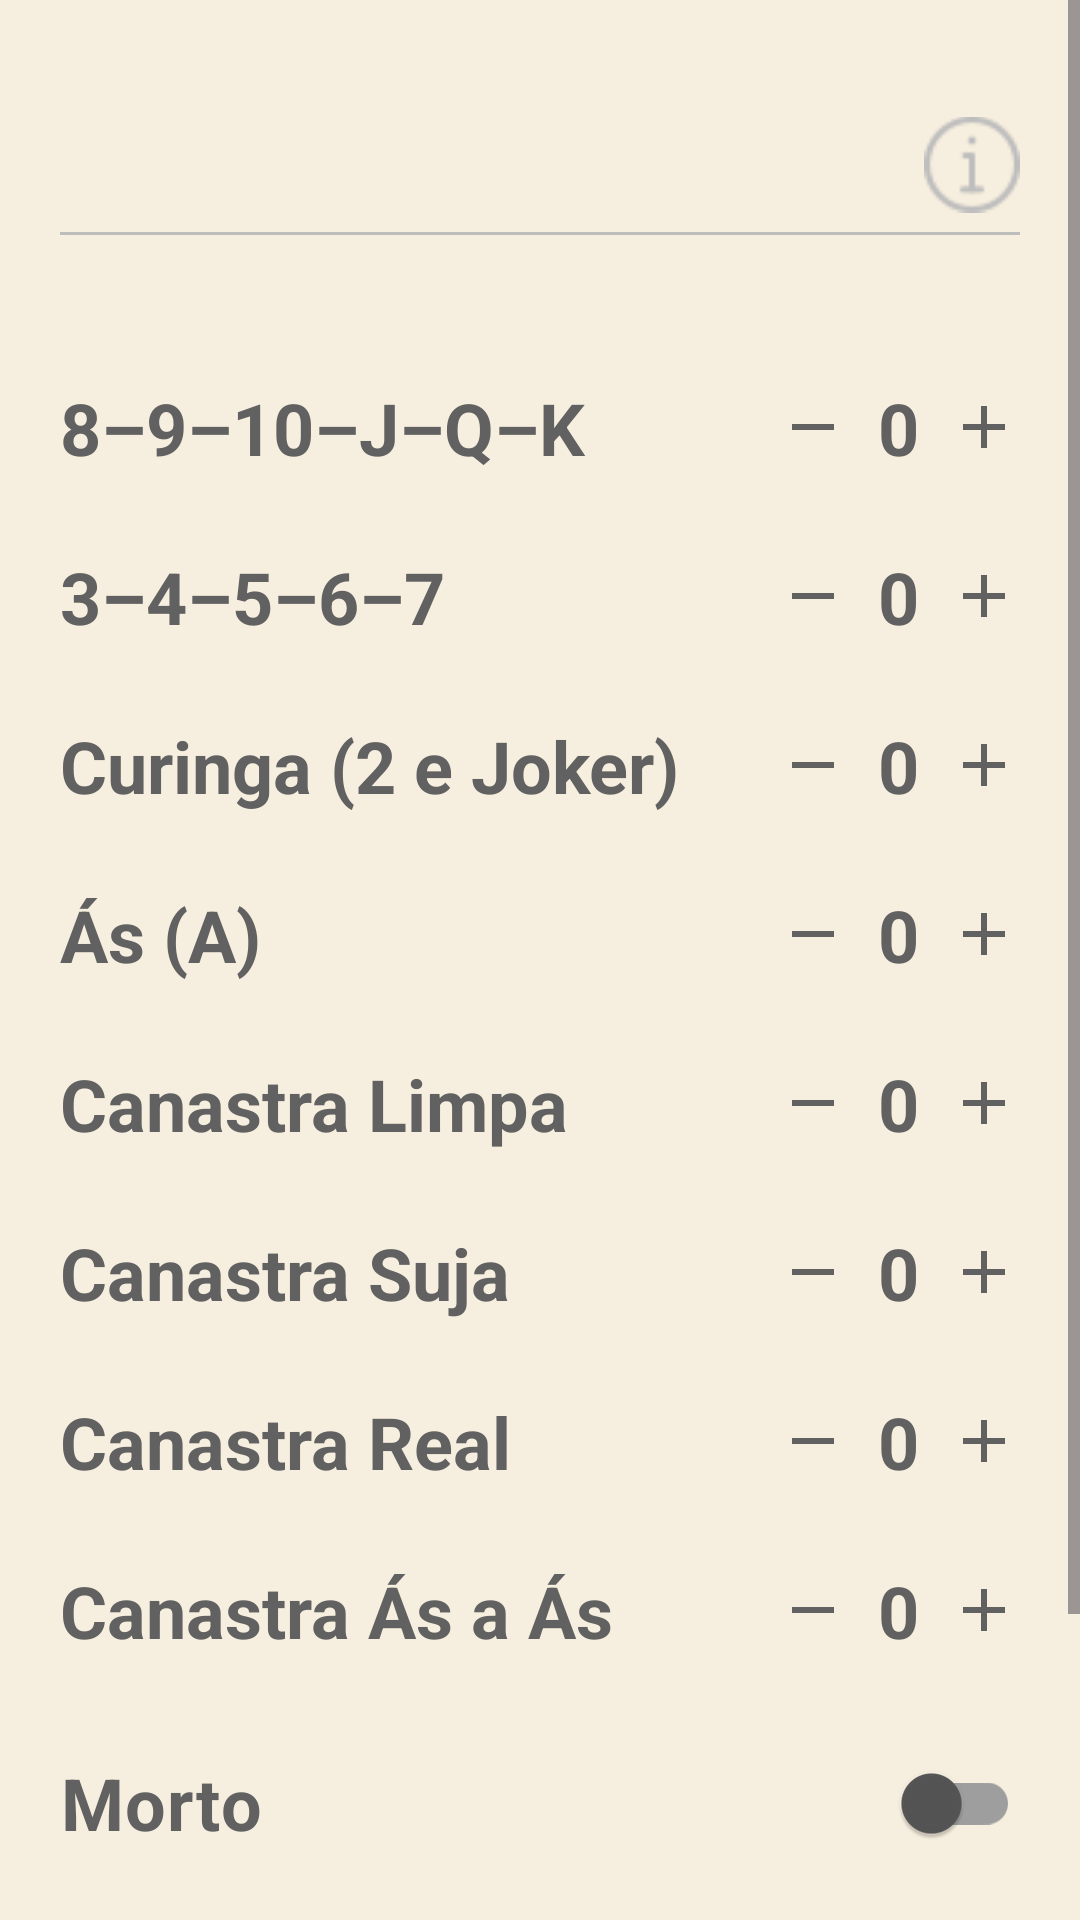

Where icons sit on this 1080x1920 app screen, as (x1, y1, x2, y2):
Adicionar um curinga: (963, 744, 1005, 786)
Adicionar um ás: (963, 913, 1005, 955)
Adicionar uma canastra de Ás a Ás: (963, 1589, 1005, 1631)
Adicionar uma canastra limpa: (963, 1082, 1005, 1124)
Adicionar uma canastra real: (963, 1420, 1005, 1462)
Adicionar uma canastra suja: (963, 1251, 1005, 1293)
Adicionar uma carta do 3 ao 7: (963, 575, 1005, 617)
Adicionar uma carta do 8 ao K: (963, 406, 1005, 448)
Informações: (924, 117, 1020, 213)
